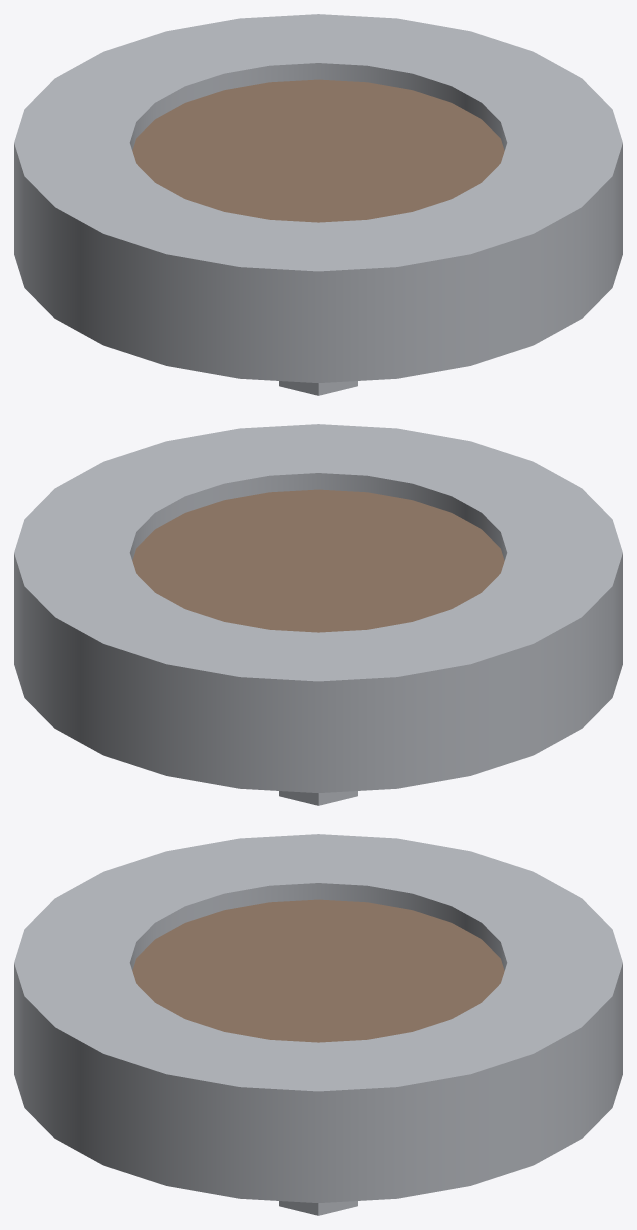
Rendered from millst.glb.
3 renders of one model, top to bottom at view 1: azimuth 30°, elevation 25°; view 2: azimuth 150°, elevation 25°; view 3: azimuth 270°, elevation 25°, orthographic.
Visible parts, largest first — view 1: core_millst; view 2: core_millst; view 3: core_millst.
Boxes of the visible parts, left/top/right/bottom form: core_millst: left=14, top=14, right=622, bottom=395; core_millst: left=14, top=424, right=622, bottom=805; core_millst: left=14, top=834, right=622, bottom=1215.
Bounding box in the file's own units: 20 × 6.05 × 20.
